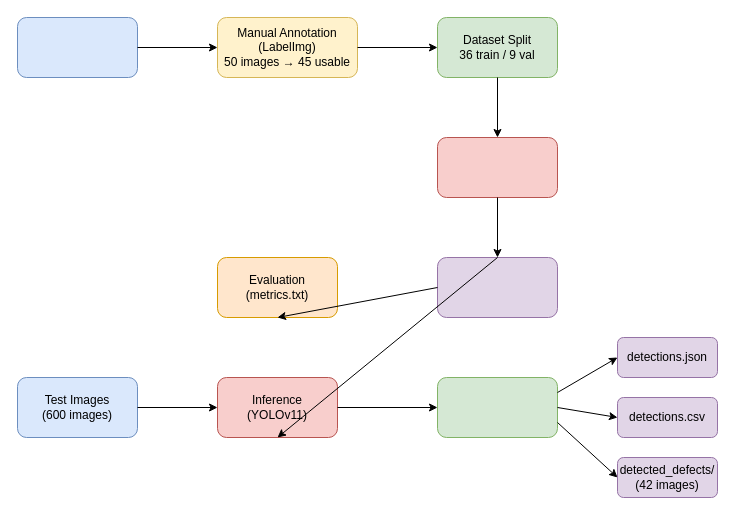
Image size: 735x515. Some labels were removed from this diagram. Each missing label, with the centre of its shape:
"Outputs" goes at [497,407].
"Raw Images (650 images)" goes at [77,47].
"Trained Model (best.pt)" goes at [497,287].
"YOLOv11 Training (200 epochs)" goes at [497,167].
